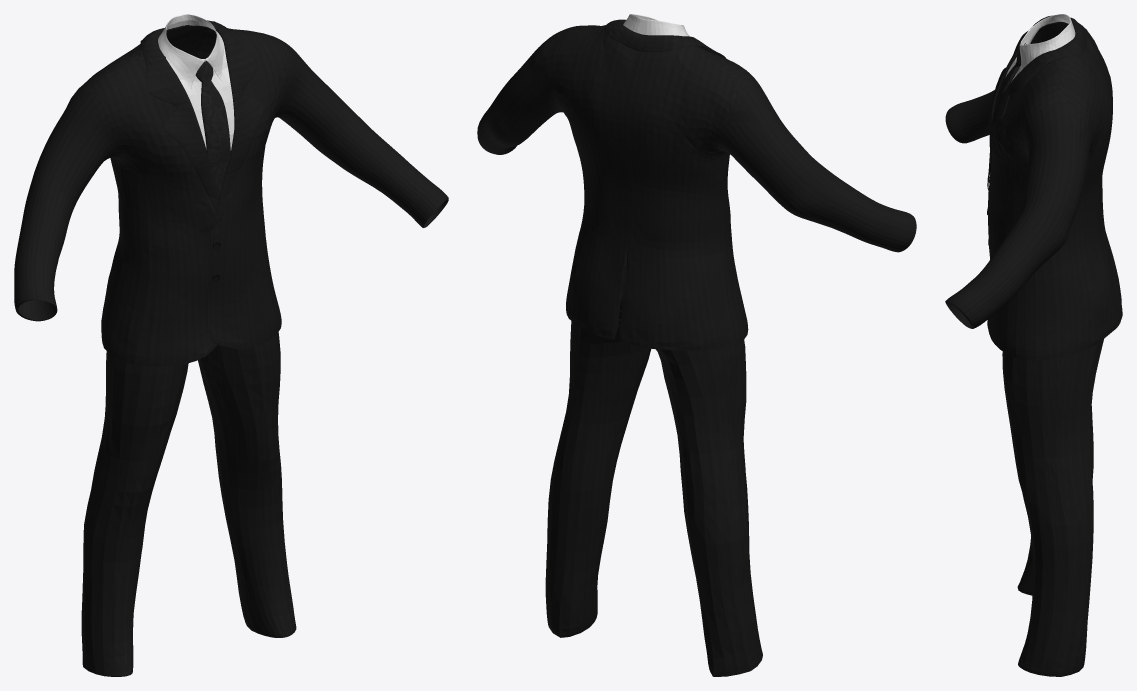
Rendered from mhw_toigo_male_suit_black.glb.
3 renders of one model, left to right at view 1: azimuth 30°, elevation 25°; view 2: azimuth 150°, elevation 25°; view 3: azimuth 270°, elevation 25°, orthographic. The views are drawn at different scales.
Parts seen in each view (by area): view 1: mhw_toigo_male_suit_black; view 2: mhw_toigo_male_suit_black; view 3: mhw_toigo_male_suit_black.
Part boxes in pixels (x1,y1,x2,y2): mhw_toigo_male_suit_black: (14, 14, 448, 676); mhw_toigo_male_suit_black: (477, 14, 916, 676); mhw_toigo_male_suit_black: (945, 14, 1122, 676).
Size of the model in its own units: 1.14 by 1.58 by 0.416.
Materials: 1 (1 with a texture image).
